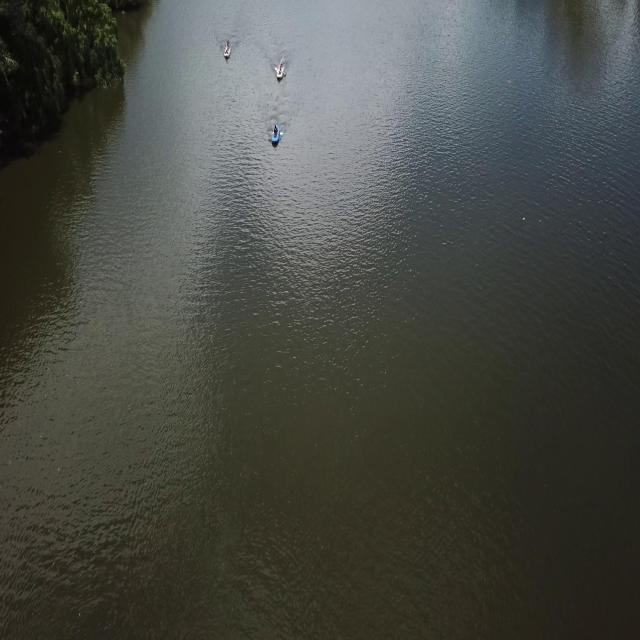kayak: (270, 121, 282, 147), (274, 57, 286, 82), (222, 35, 232, 60)
